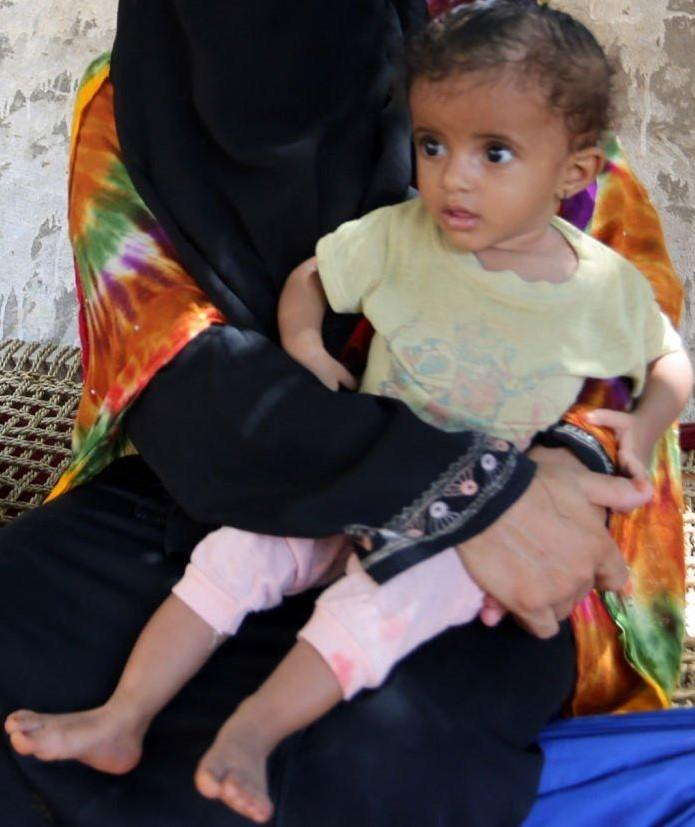Stunting: (286, 0, 652, 294)
